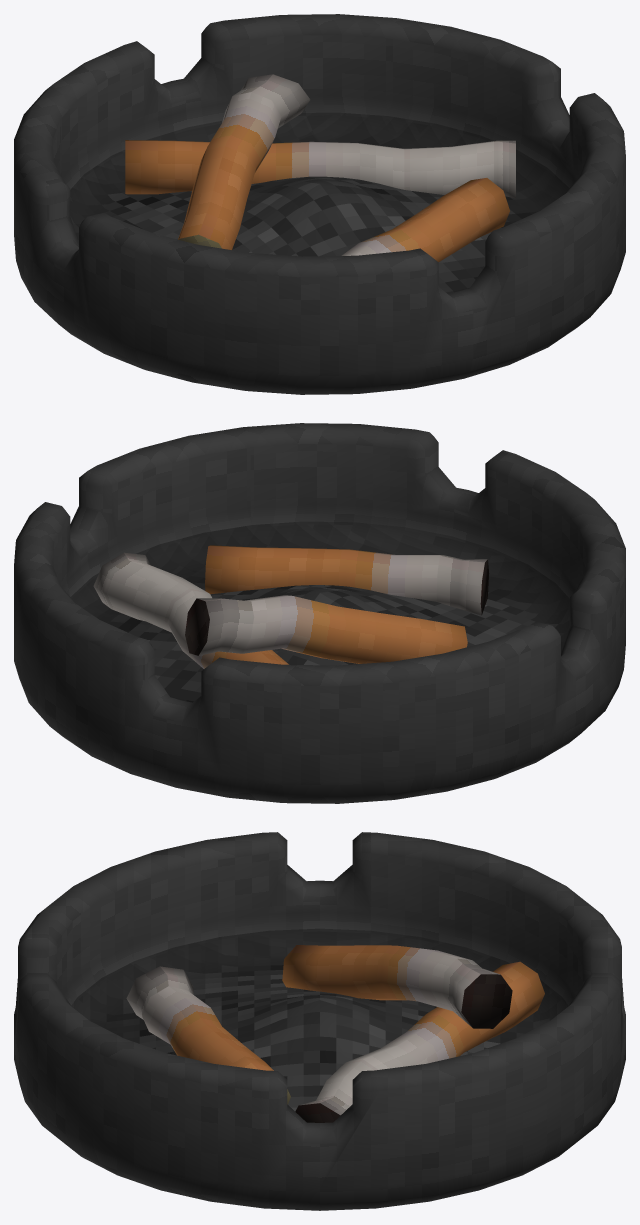
File: ashtray_1.glb
The picture shows the model from 3 angles, top to bottom: view 1: azimuth 30°, elevation 25°; view 2: azimuth 150°, elevation 25°; view 3: azimuth 270°, elevation 25°; orthographic projection.
Visible parts, largest first — view 1: ashtray_1; view 2: ashtray_1; view 3: ashtray_1.
Part boxes in pixels (left/top/right/bottom): ashtray_1: left=14, top=14, right=625, bottom=394; ashtray_1: left=14, top=423, right=625, bottom=803; ashtray_1: left=14, top=832, right=625, bottom=1210.
Size of the model in its own units: 0.16 by 0.04 by 0.16.
3 materials, 3 textured.
